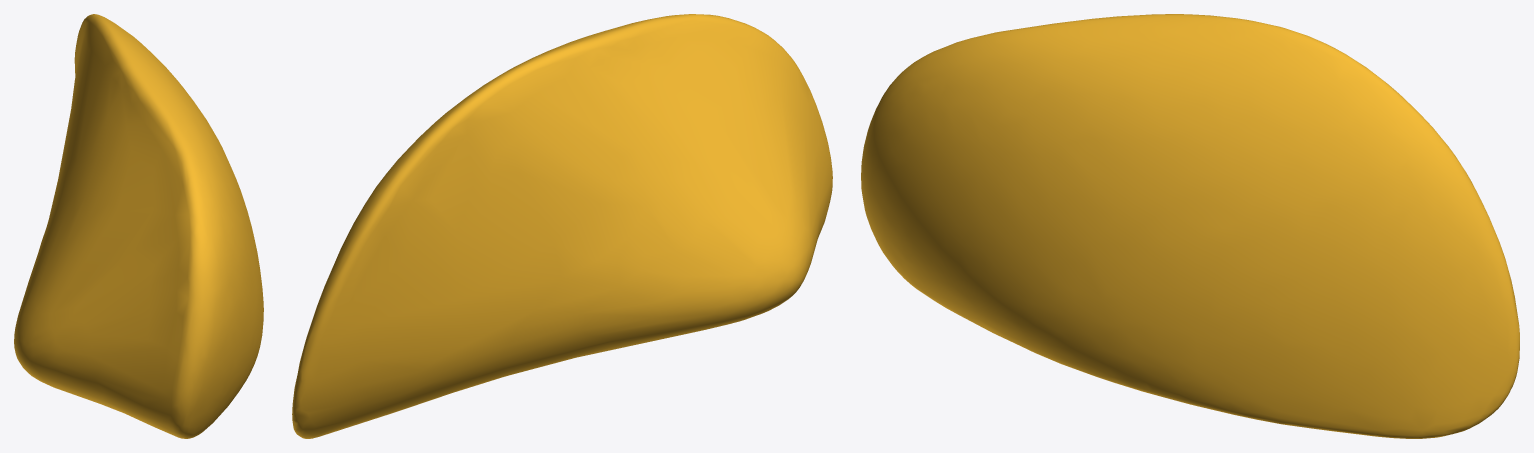
Rendered from nervoso-globus-pallidus-l.glb.
3 views of the same model, side by side, from view 1: azimuth 30°, elevation 25°; view 2: azimuth 150°, elevation 25°; view 3: azimuth 270°, elevation 25° (orthographic). The views are drawn at different scales.
Parts seen in each view (by area): view 1: Globus pallidus.l; view 2: Globus pallidus.l; view 3: Globus pallidus.l.
Part boxes in pixels (x1,y1,x2,y2): Globus pallidus.l: [14, 14, 263, 438]; Globus pallidus.l: [292, 14, 832, 438]; Globus pallidus.l: [861, 14, 1519, 438].
Bounding box in the file's own units: 0.0162 × 0.0168 × 0.0284.
